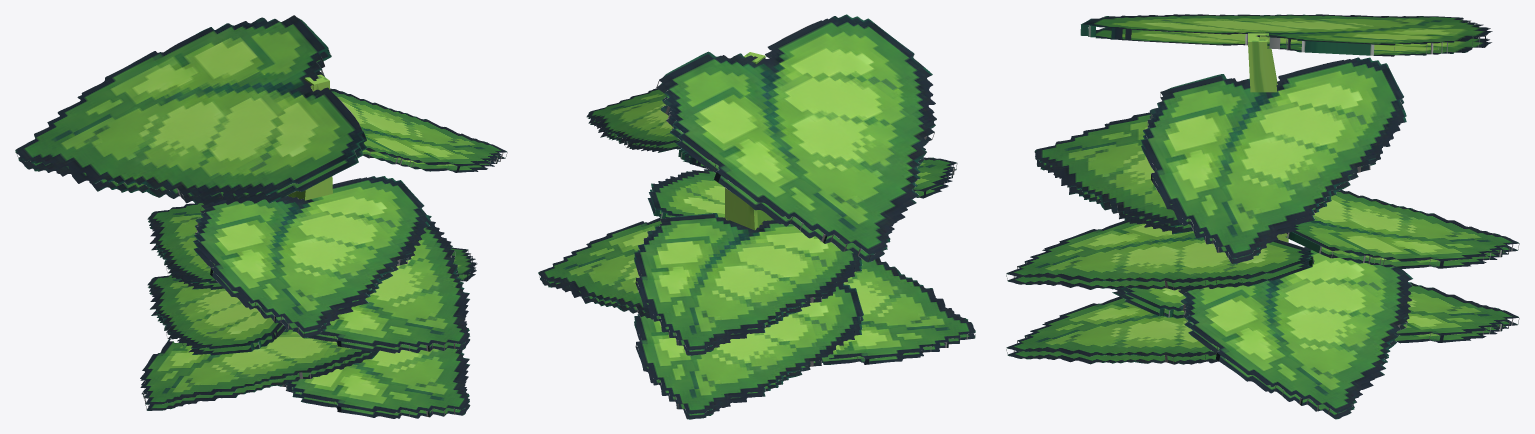
Rendered from Grass.fbx.
3 views of the same model, side by side, from view 1: azimuth 30°, elevation 25°; view 2: azimuth 150°, elevation 25°; view 3: azimuth 270°, elevation 25° (orthographic). The views are drawn at different scales.
Visible parts, largest first — view 1: Cube.001; view 2: Cube.001; view 3: Cube.001.
Part boxes in pixels (x1,y1,x2,y2): Cube.001: [15, 15, 507, 418]; Cube.001: [538, 14, 975, 419]; Cube.001: [1006, 14, 1519, 419].
Bounding box in the file's own units: 327 × 224 × 320.
